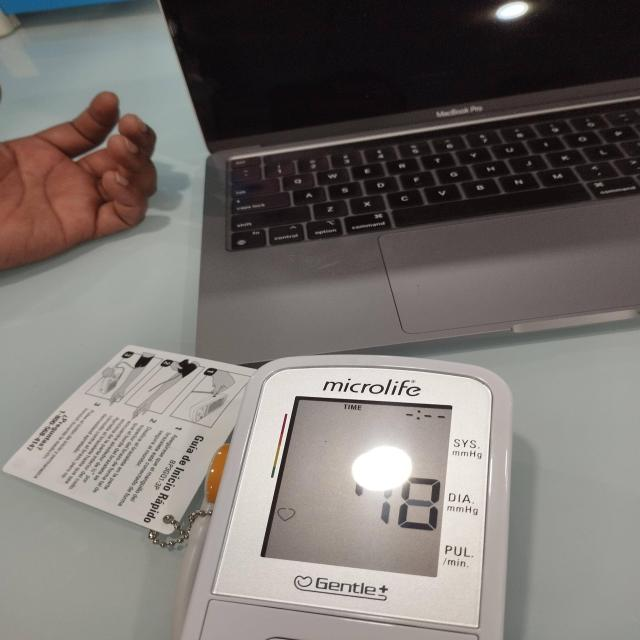bp: (186, 362, 514, 640)
